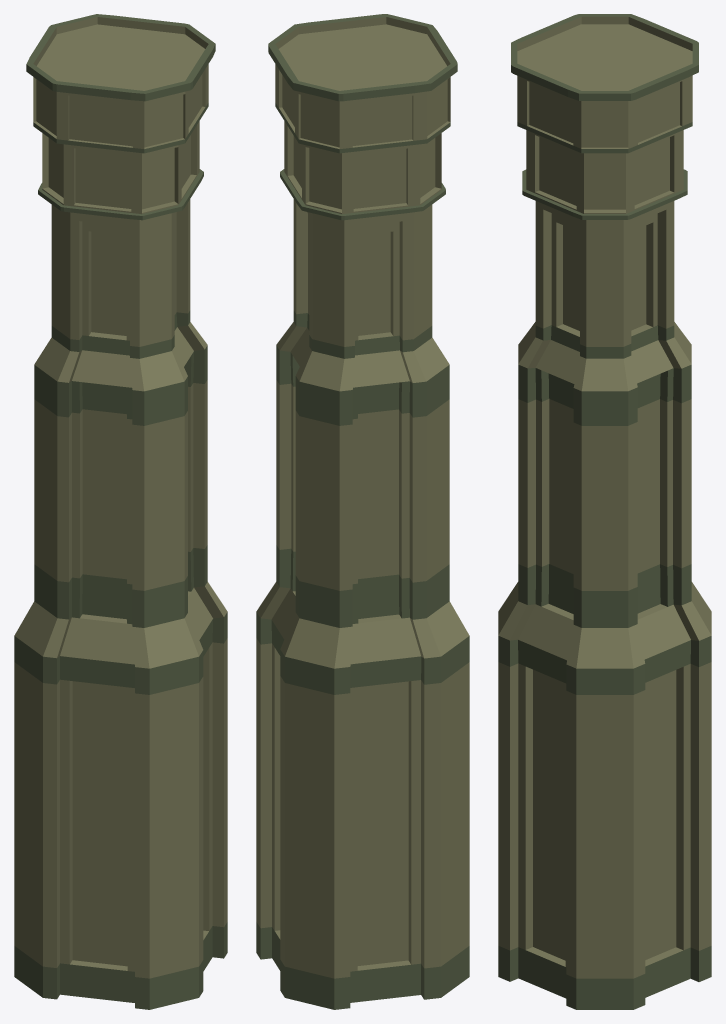
Rendered from column_pilar.fbx.
3 renders of one model, left to right at view 1: azimuth 30°, elevation 25°; view 2: azimuth 150°, elevation 25°; view 3: azimuth 270°, elevation 25°, orthographic.
Parts seen in each view (by area): view 1: column_pilar; view 2: column_pilar; view 3: column_pilar.
Part boxes in pixels (left/top/right/bottom): column_pilar: left=14, top=14, right=227, bottom=1009; column_pilar: left=256, top=14, right=469, bottom=1009; column_pilar: left=498, top=14, right=711, bottom=1009.
Bounding box in the file's own units: 0.9955 × 4.69 × 0.9955.
